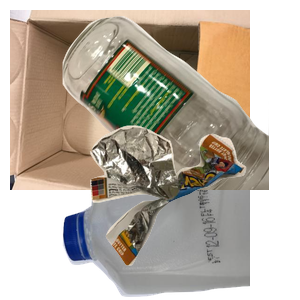cardboard: (10, 10, 250, 190)
glass: (60, 14, 300, 194)
plastic: (60, 135, 300, 300)
trash: (88, 123, 300, 300)
